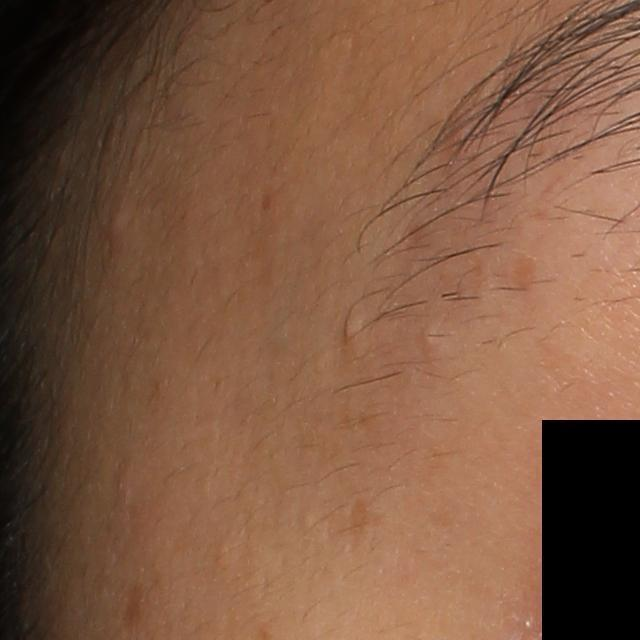comedo: (326, 298, 370, 345), (418, 319, 439, 349)
